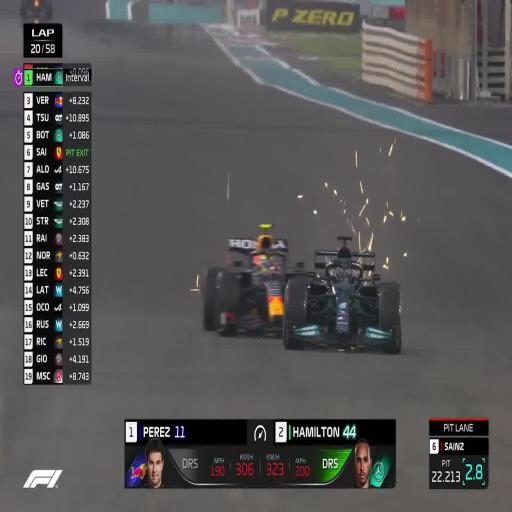f1_car: (283, 237, 401, 353), (202, 224, 303, 335), (20, 0, 53, 22)
